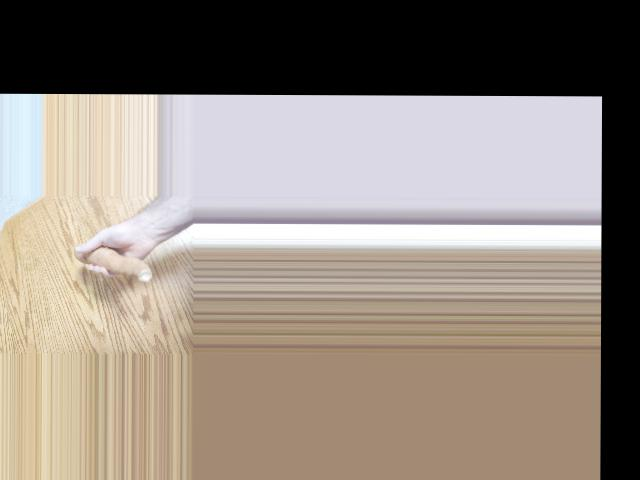sweet_potato: (70, 246, 157, 280)
